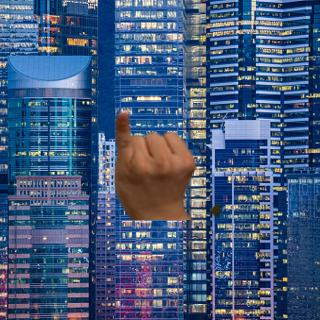FINE: (112, 108, 198, 216)
